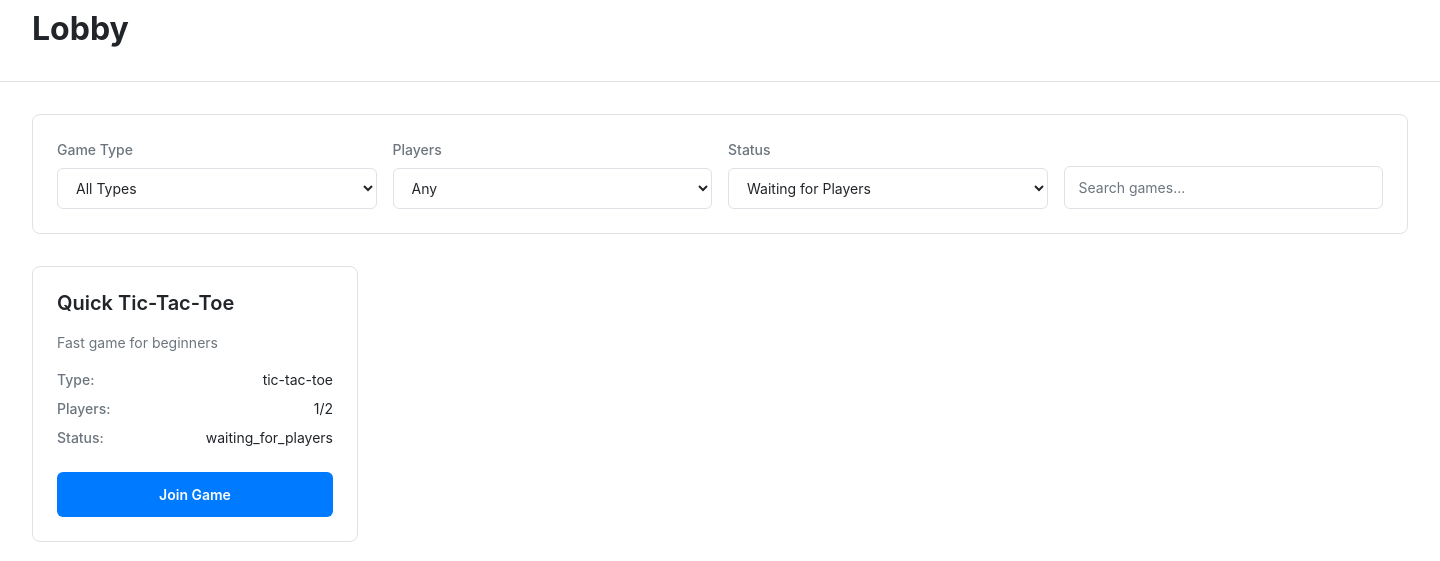
LobbyView › Game List Rendering › should load and display games on mount
Expected: the heading "Quick Tic-Tac-Toe" is shown, [57,291,234,316]
Select "All" in the dropdown labelled "Status": (888, 188) [728,168,1048,209]
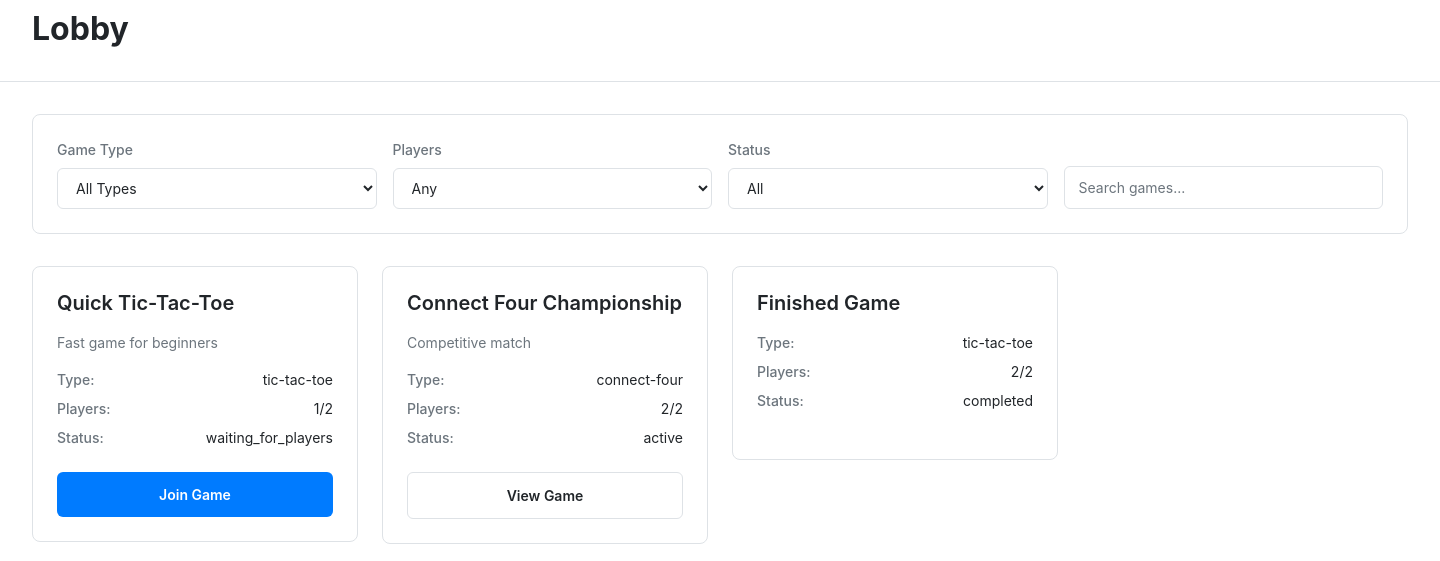
Now the heading "Connect Four Championship" is shown, box [407,291,682,316]
Now the heading "Finished Game" is shown, box [757,291,900,316]
